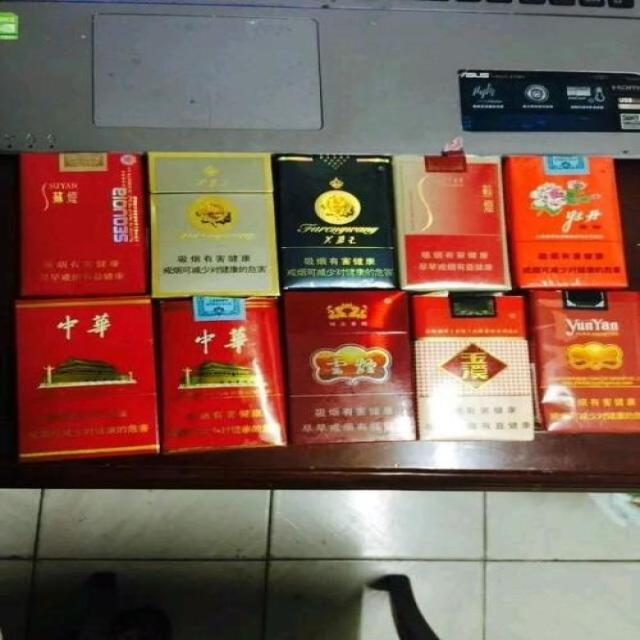box: (14, 296, 157, 461), (283, 287, 417, 445), (160, 297, 289, 454), (389, 135, 512, 290), (147, 152, 278, 297), (412, 290, 535, 443), (19, 150, 146, 294), (274, 152, 399, 290), (504, 154, 630, 289), (529, 288, 640, 438)
